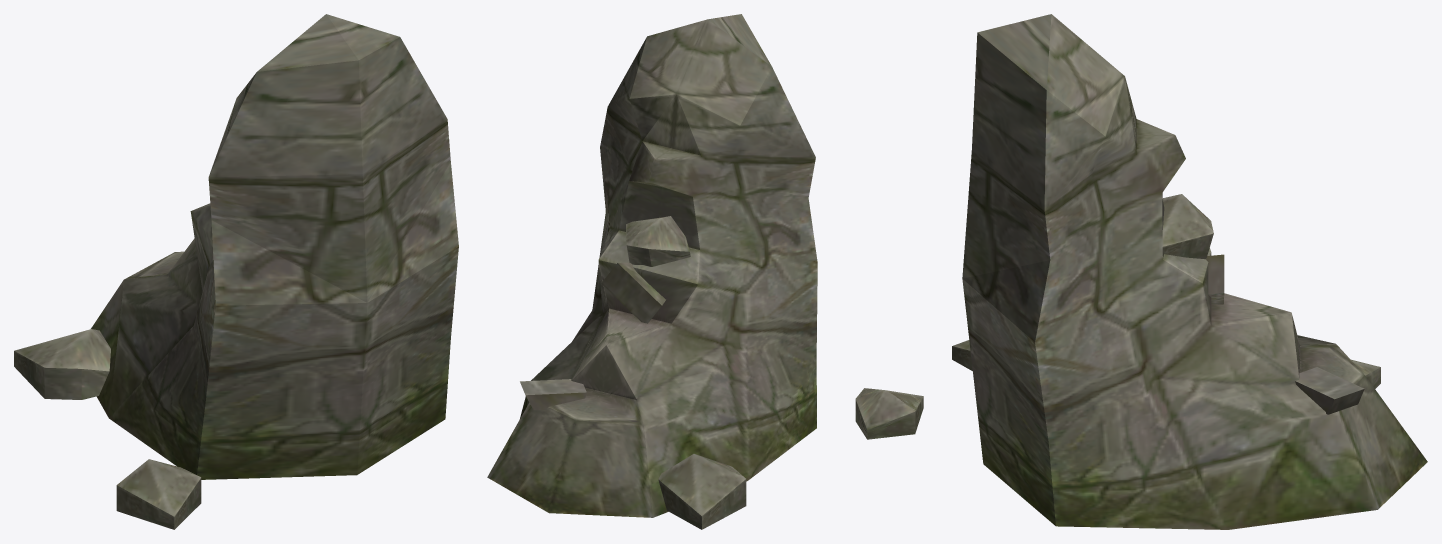
File: shidiao_xy_41.FBX
3 views of the same model, side by side, from view 1: azimuth 30°, elevation 25°; view 2: azimuth 150°, elevation 25°; view 3: azimuth 270°, elevation 25° (orthographic). The views are drawn at different scales.
Visible parts, largest first — view 1: shidiao_xy_41; view 2: shidiao_xy_41; view 3: shidiao_xy_41.
Boxes of the visible parts, x1,y1,x2,y2 form: shidiao_xy_41: (14, 14, 458, 529); shidiao_xy_41: (487, 14, 923, 529); shidiao_xy_41: (952, 14, 1427, 529).
Size of what is drawn, in the model's own units: 466 by 547 by 523.
